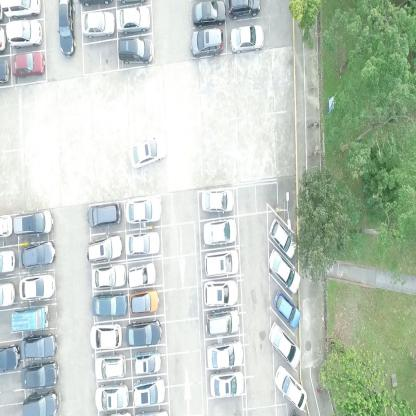car: (128, 126, 166, 171), (265, 248, 301, 294), (268, 321, 302, 369), (274, 363, 307, 410), (267, 215, 297, 259), (205, 338, 245, 370), (205, 304, 241, 338), (125, 318, 164, 349), (4, 19, 43, 50), (272, 288, 301, 329), (10, 304, 51, 333), (210, 368, 247, 400), (58, 0, 78, 59), (17, 240, 56, 270), (21, 362, 60, 392), (10, 48, 46, 80), (13, 208, 54, 236), (86, 233, 123, 264), (124, 194, 162, 224), (18, 273, 57, 302), (132, 374, 166, 407), (230, 22, 266, 53), (117, 36, 154, 66), (92, 261, 128, 291), (95, 382, 131, 412), (87, 199, 122, 229), (202, 217, 238, 246), (90, 321, 122, 353), (204, 251, 240, 279), (21, 332, 57, 360), (116, 6, 152, 34), (202, 279, 239, 306), (190, 27, 224, 56), (80, 12, 116, 39), (94, 353, 128, 381), (92, 293, 128, 319), (192, 0, 228, 26), (128, 287, 160, 316), (125, 231, 160, 257), (133, 348, 163, 378), (22, 390, 58, 415), (200, 187, 234, 212), (128, 261, 156, 291), (1, 0, 40, 20), (0, 341, 22, 375), (227, 0, 262, 18), (0, 247, 15, 276), (0, 281, 15, 309), (0, 214, 13, 239)
